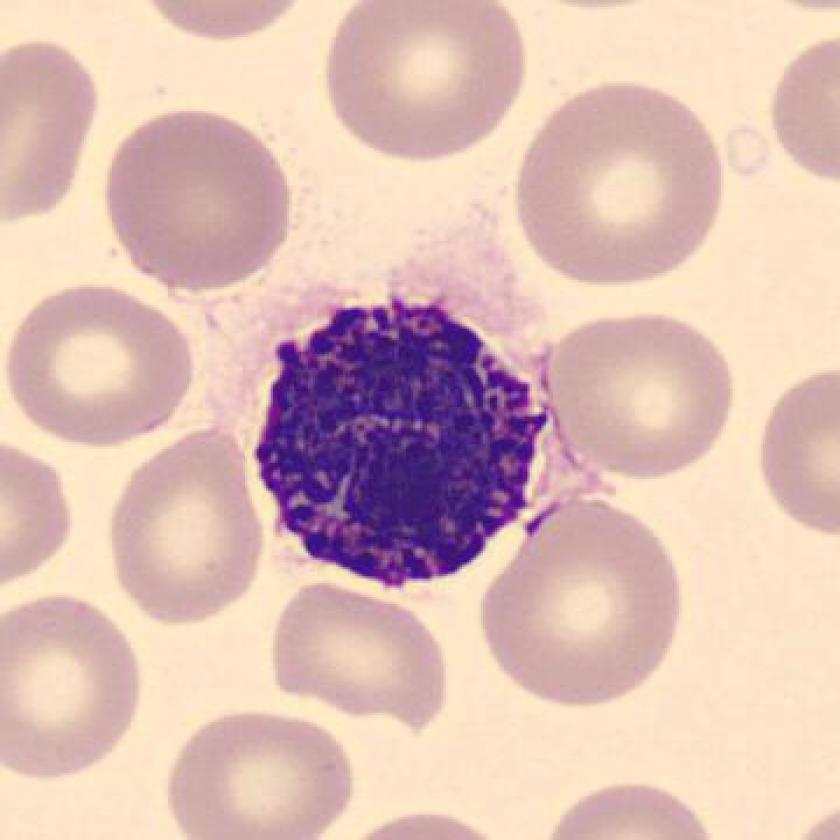basophil: (241, 288, 566, 600)
